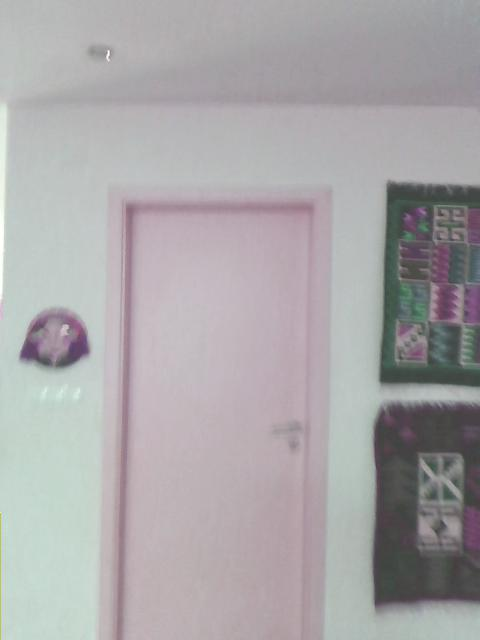closed_door: (100, 183, 330, 638)
